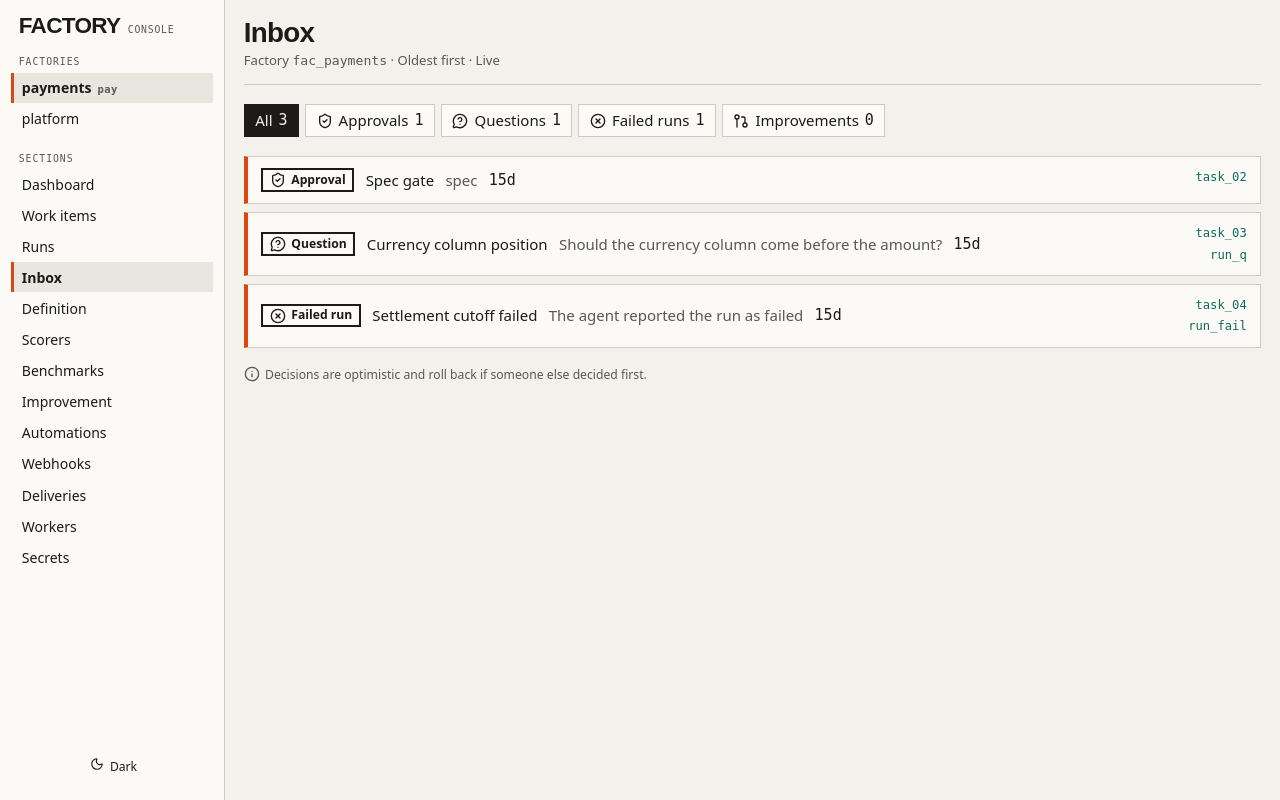
Test: inbox › shows a failed run without a retry control
This screenshot has width=1280, height=800.
Click the button "Settlement cutoff failed": (719, 316) left=261, top=296, right=1177, bottom=335
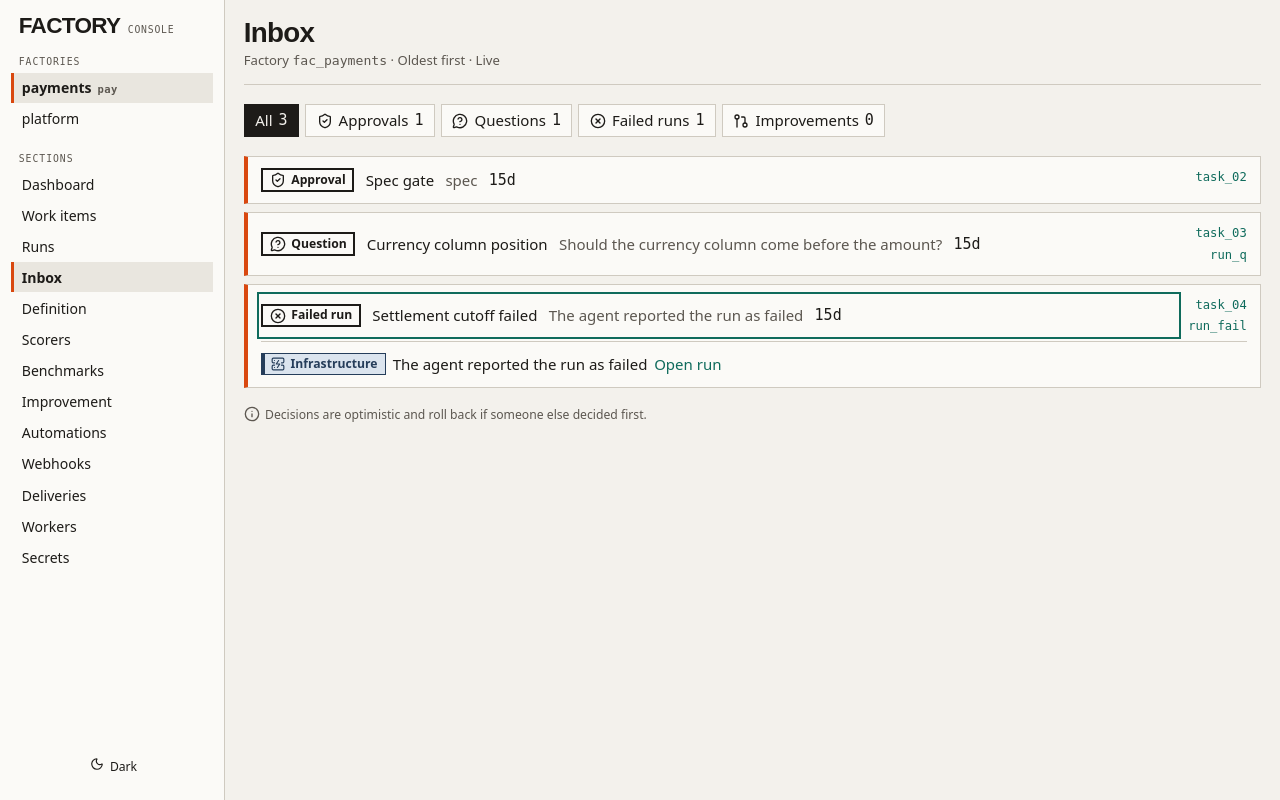
Check: the 1st text "The agent reported the run as failed" is shown, box left=549, top=304, right=803, bottom=327
Check: the text "Infrastructure" is shown, box left=290, top=355, right=378, bottom=373
